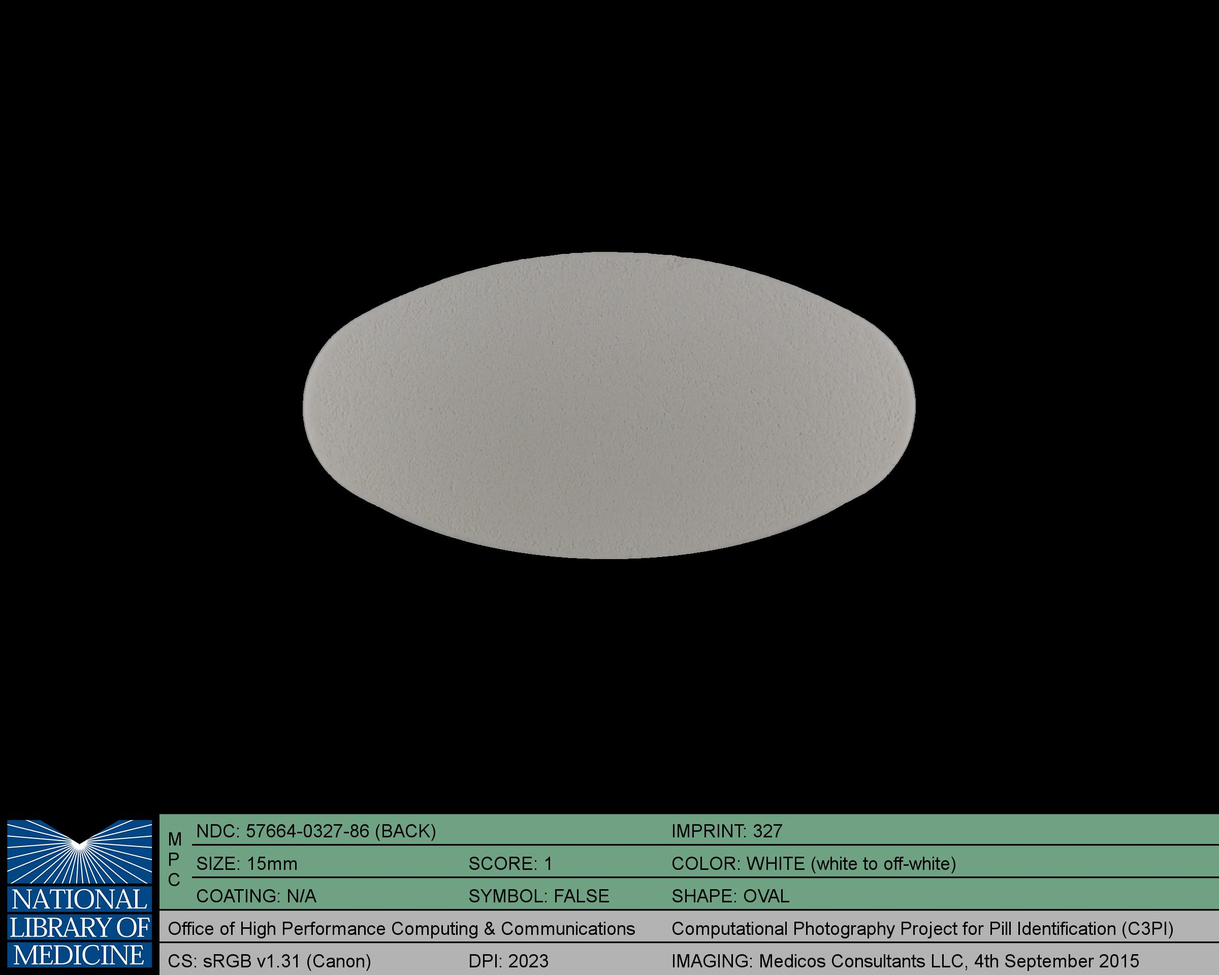Pill: (293, 240, 926, 572)
